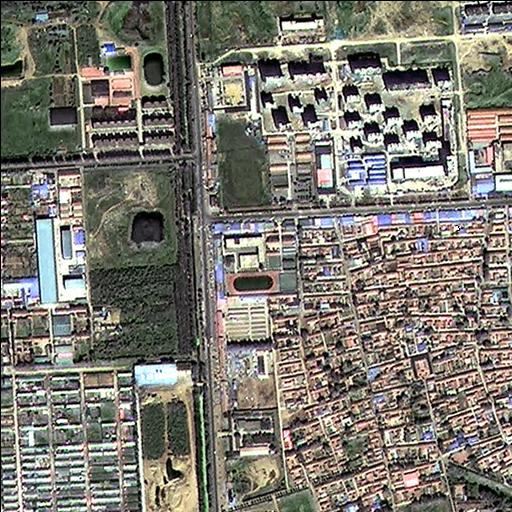school: (208, 213, 299, 295)
